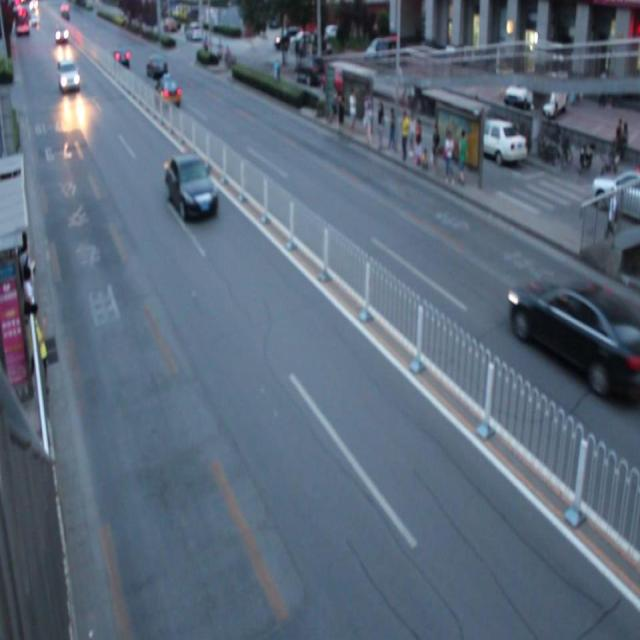car: (508, 270, 632, 401), (164, 150, 218, 220), (150, 73, 181, 108)
